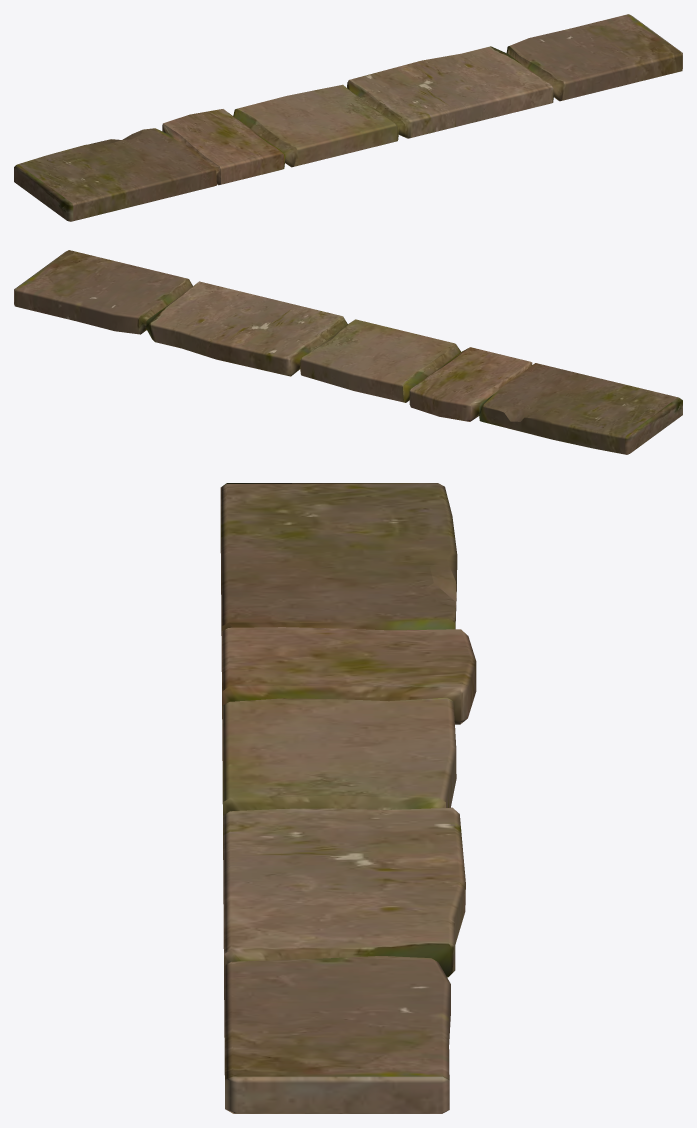
The picture shows the model from 3 angles, top to bottom: view 1: azimuth 30°, elevation 25°; view 2: azimuth 150°, elevation 25°; view 3: azimuth 270°, elevation 25°; orthographic projection. The views are drawn at different scales.
Visible parts, largest first — view 1: SM_Human_Ruins_Steps_Slob_02_LOD0; view 2: SM_Human_Ruins_Steps_Slob_02_LOD0; view 3: SM_Human_Ruins_Steps_Slob_02_LOD0.
Part boxes in pixels (x1=…): SM_Human_Ruins_Steps_Slob_02_LOD0: x1=14, y1=14, x2=682, y2=221; SM_Human_Ruins_Steps_Slob_02_LOD0: x1=14, y1=250, x2=682, y2=454; SM_Human_Ruins_Steps_Slob_02_LOD0: x1=220, y1=483, x2=476, y2=1113.
Size of the model in its own units: 4 by 0.116 by 0.7205.
1 material, 1 textured.
